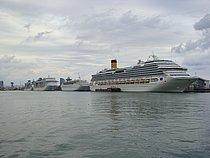Ship: (88, 55, 199, 97)
